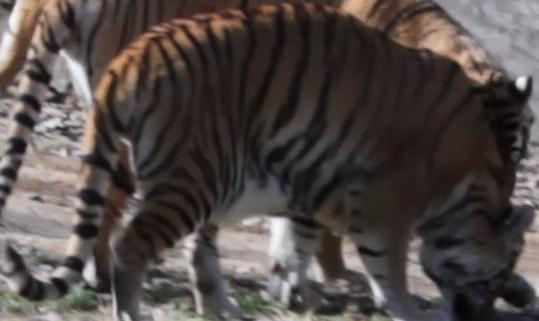tiger: (0, 0, 532, 320)
